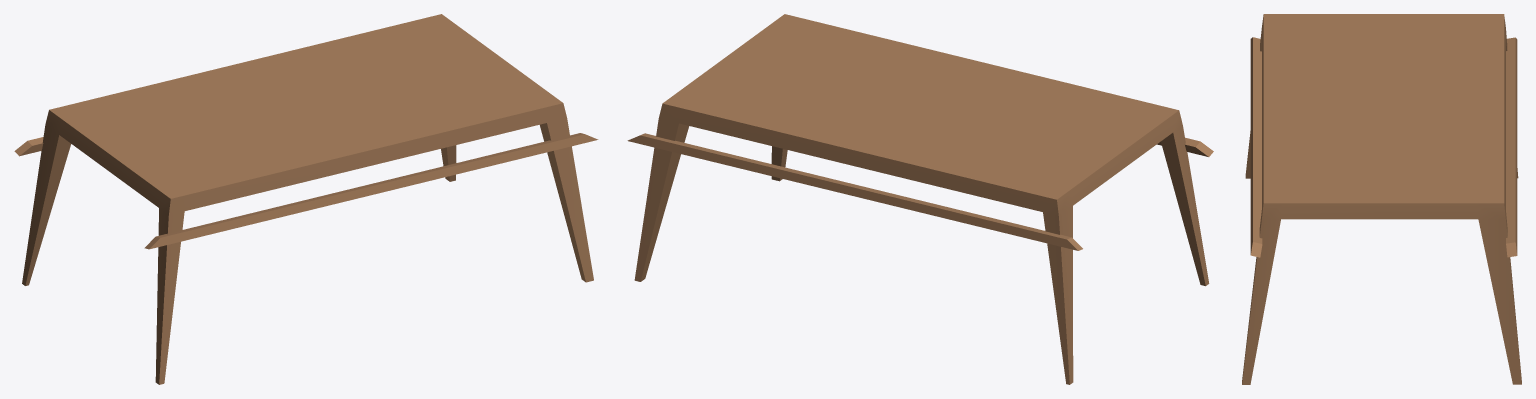
File: TV table.fbx
3 renders of one model, left to right at view 1: azimuth 30°, elevation 25°; view 2: azimuth 150°, elevation 25°; view 3: azimuth 270°, elevation 25°, orthographic.
Visible parts, largest first — view 1: polySurface6; view 2: polySurface6; view 3: polySurface6.
Part boxes in pixels (x1,y1,x2,y2): polySurface6: (14, 14, 598, 384); polySurface6: (627, 14, 1213, 384); polySurface6: (1242, 14, 1521, 384).
Size of the model in its own units: 0.3149 by 0.1167 by 0.1719.
